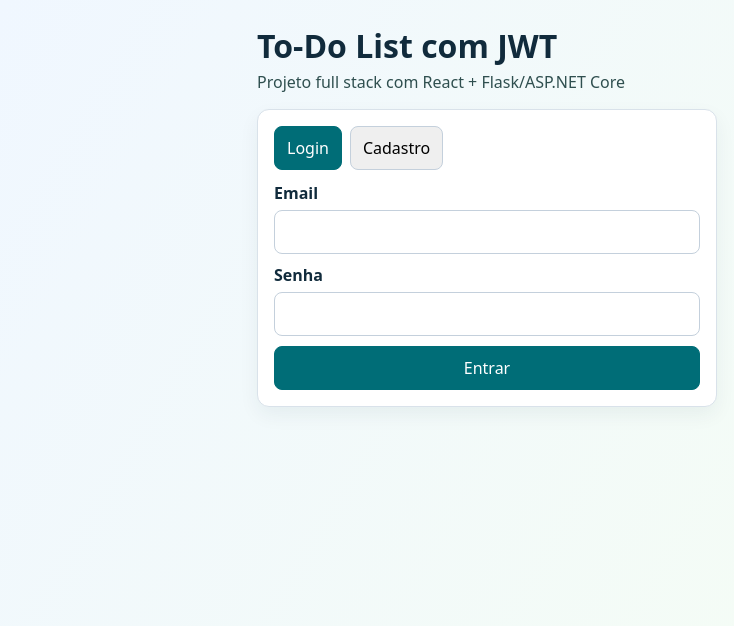
Test: App › alterna para modo cadastro
Step 1. Click the button "Cadastro" → (397, 148), box left=350, top=126, right=443, bottom=170
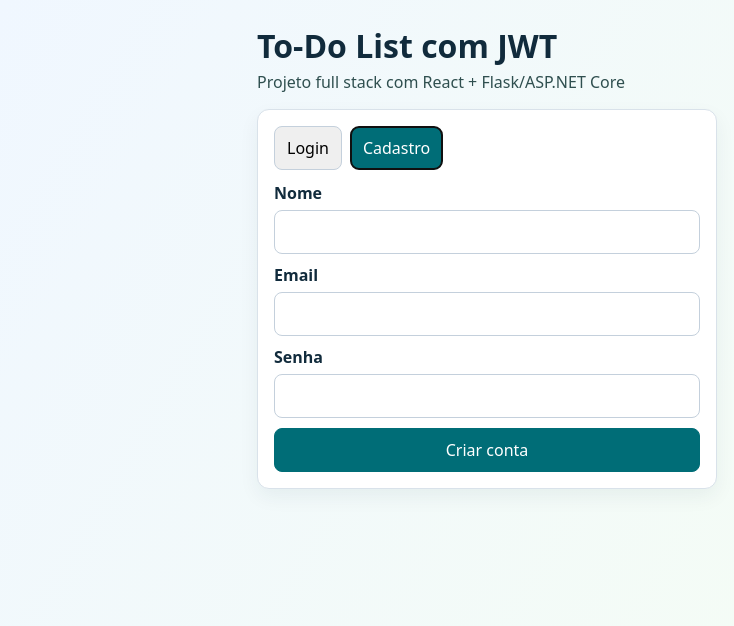
Expected: the field labelled "Nome" is shown, left=274, top=210, right=700, bottom=254
Now the button "Criar conta" is shown, box left=274, top=428, right=700, bottom=472
